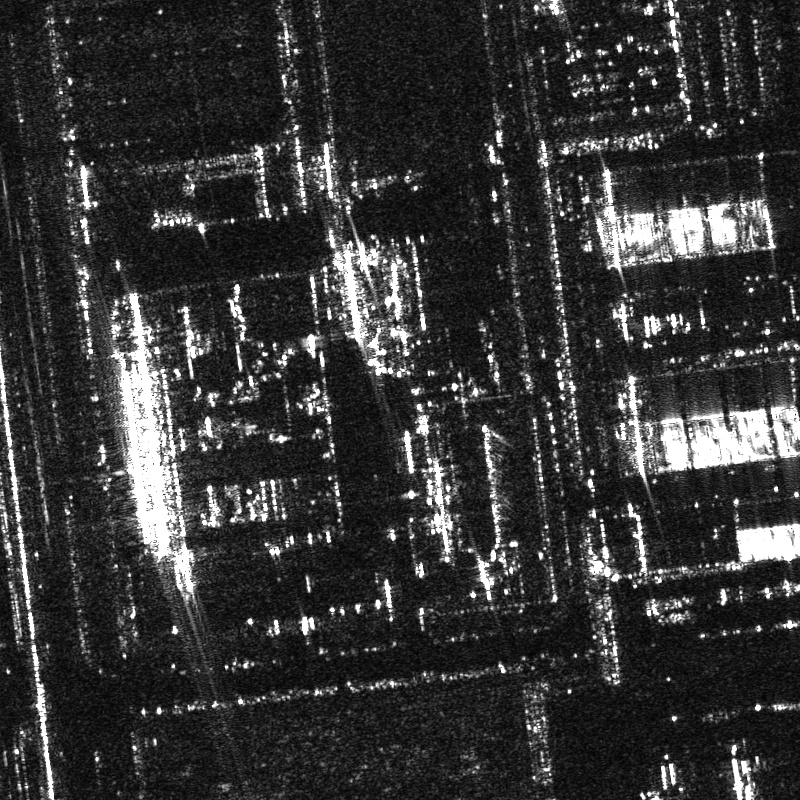Boeing787: (714, 742, 773, 799)
